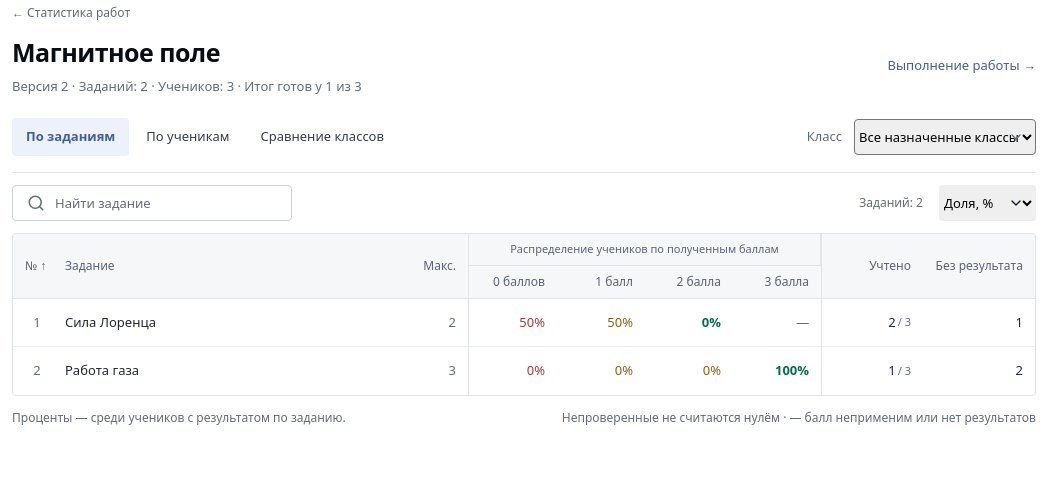
Scenario: searches and sorts compact rows, restores URL state and resets empty searches
Click the button "Задание" at (90, 265), box x1=65 y1=250 x2=397 y2=282
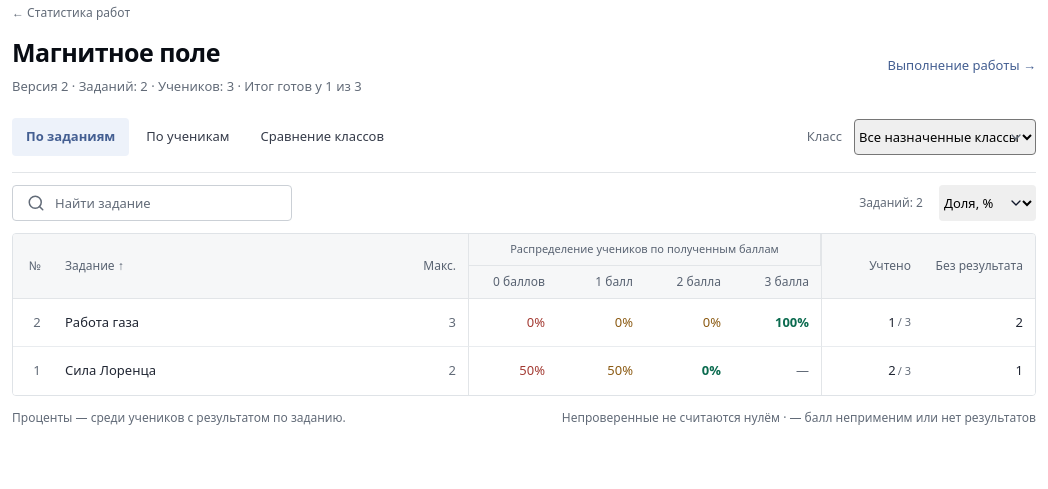
Expected: the row "2 Работа газа 3 0% 0% 0% 100% 1 / 3 2" is shown, x1=13 y1=299 x2=1035 y2=347
Type "нет такой задачи" into the search field labelled "Найти задание" at (149, 203), box x1=55 y1=186 x2=243 y2=220
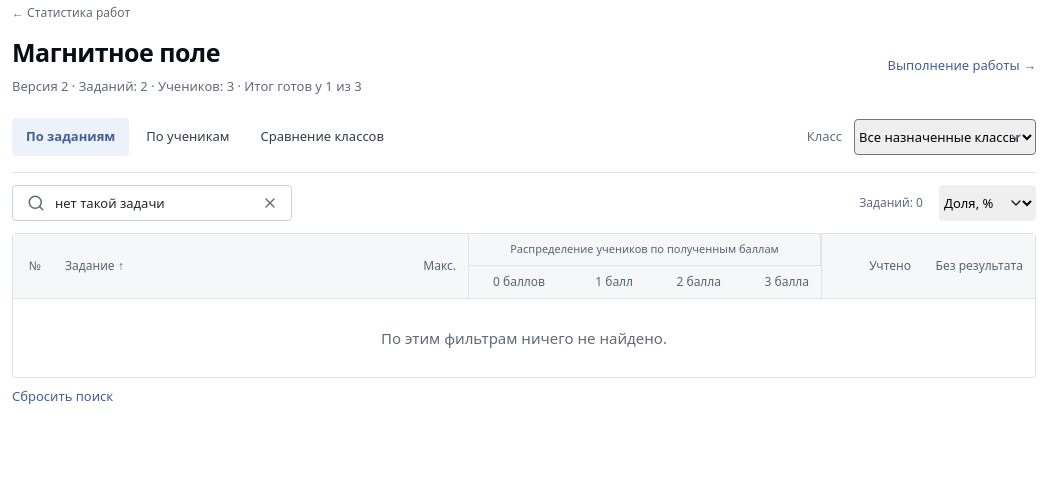
Now the text "По этим фильтрам ничего не найдено." is shown, box x1=381 y1=328 x2=667 y2=348
Now the text "Проценты — среди учеников с результатом по заданию." is gone
Click the button "Сбросить поиск" at (63, 396), box x1=12 y1=378 x2=113 y2=414
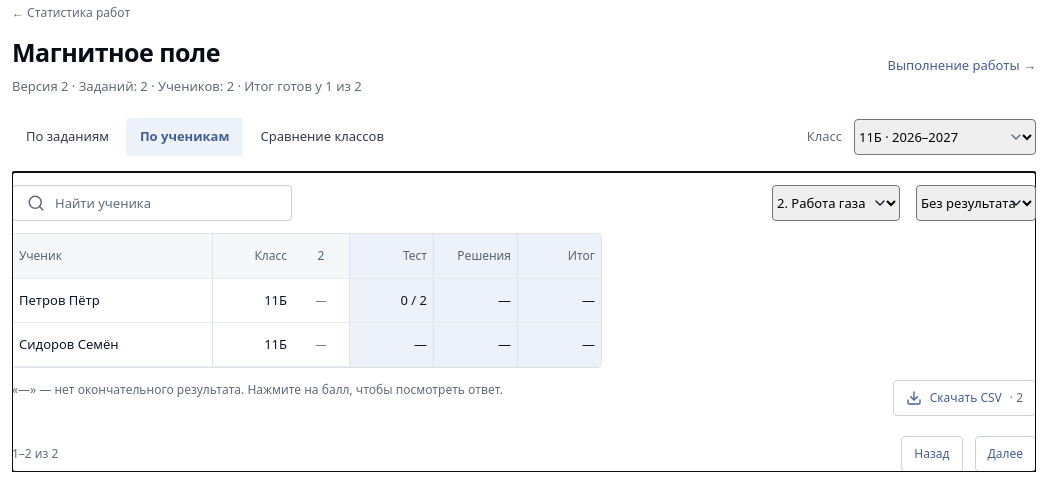
Now the dropdown named "Полученный балл" shows "Без результата", box x1=916 y1=185 x2=1036 y2=221
Now the text "Петров Пётр" is shown, box x1=19 y1=290 x2=100 y2=308
